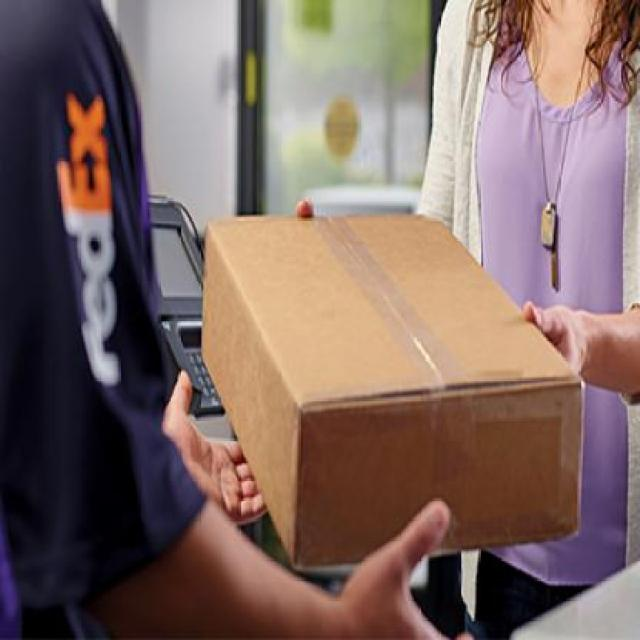cardboxes: (198, 212, 584, 576)
